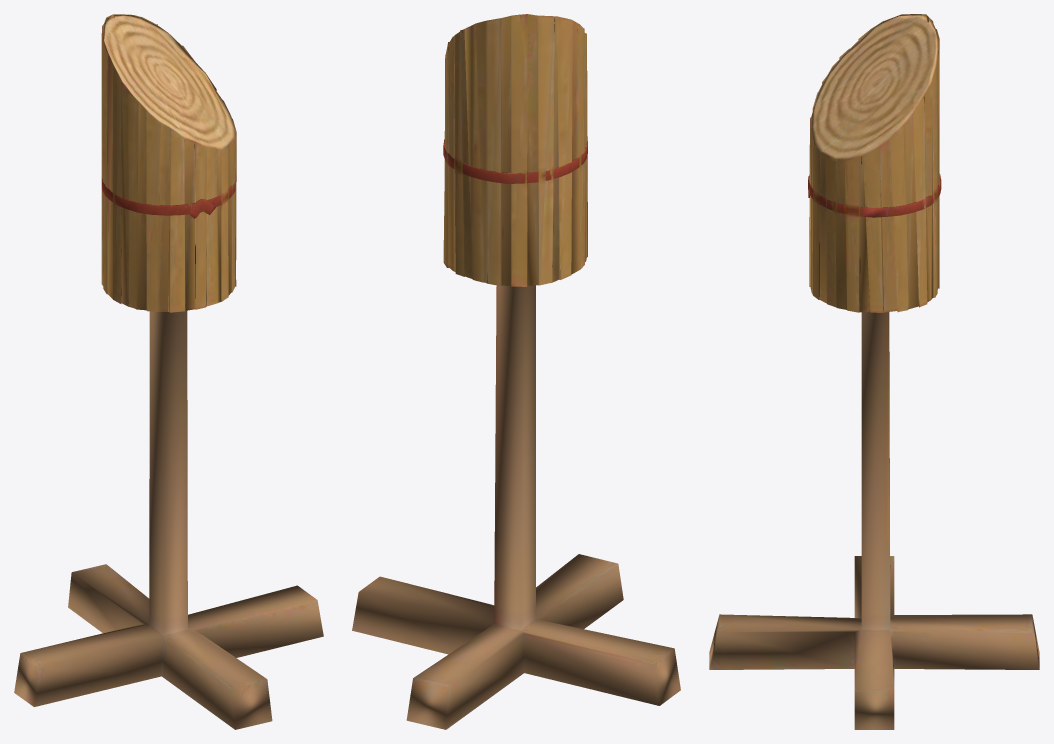
Rendered from target_lo.glb.
3 renders of one model, left to right at view 1: azimuth 30°, elevation 25°; view 2: azimuth 150°, elevation 25°; view 3: azimuth 270°, elevation 25°, orthographic. The views are drawn at different scales.
Parts seen in each view (by area): view 1: geometry_0; view 2: geometry_0; view 3: geometry_0.
Boxes of the visible parts, box(x1,y1,x2,y2) form: geometry_0: box(14, 14, 323, 729); geometry_0: box(352, 14, 680, 729); geometry_0: box(709, 14, 1039, 729).
Size of the model in its own units: 0.7614 by 1.6 by 0.7614.
1 material, 1 textured.
